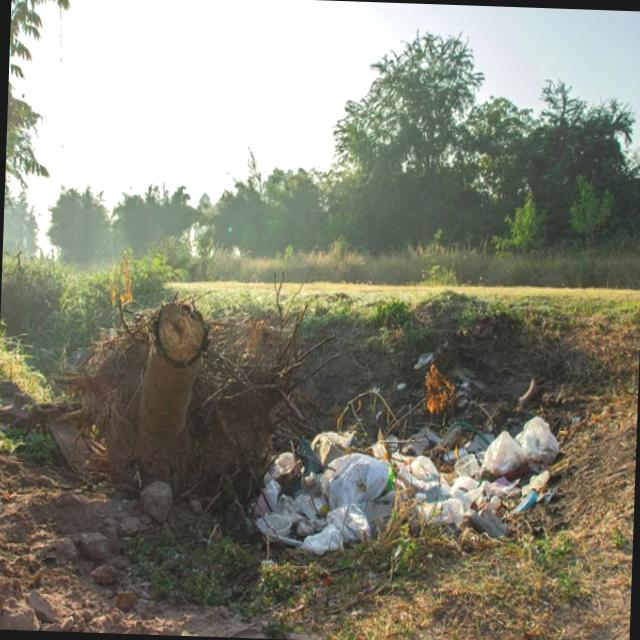garbage: (244, 367, 545, 595)
